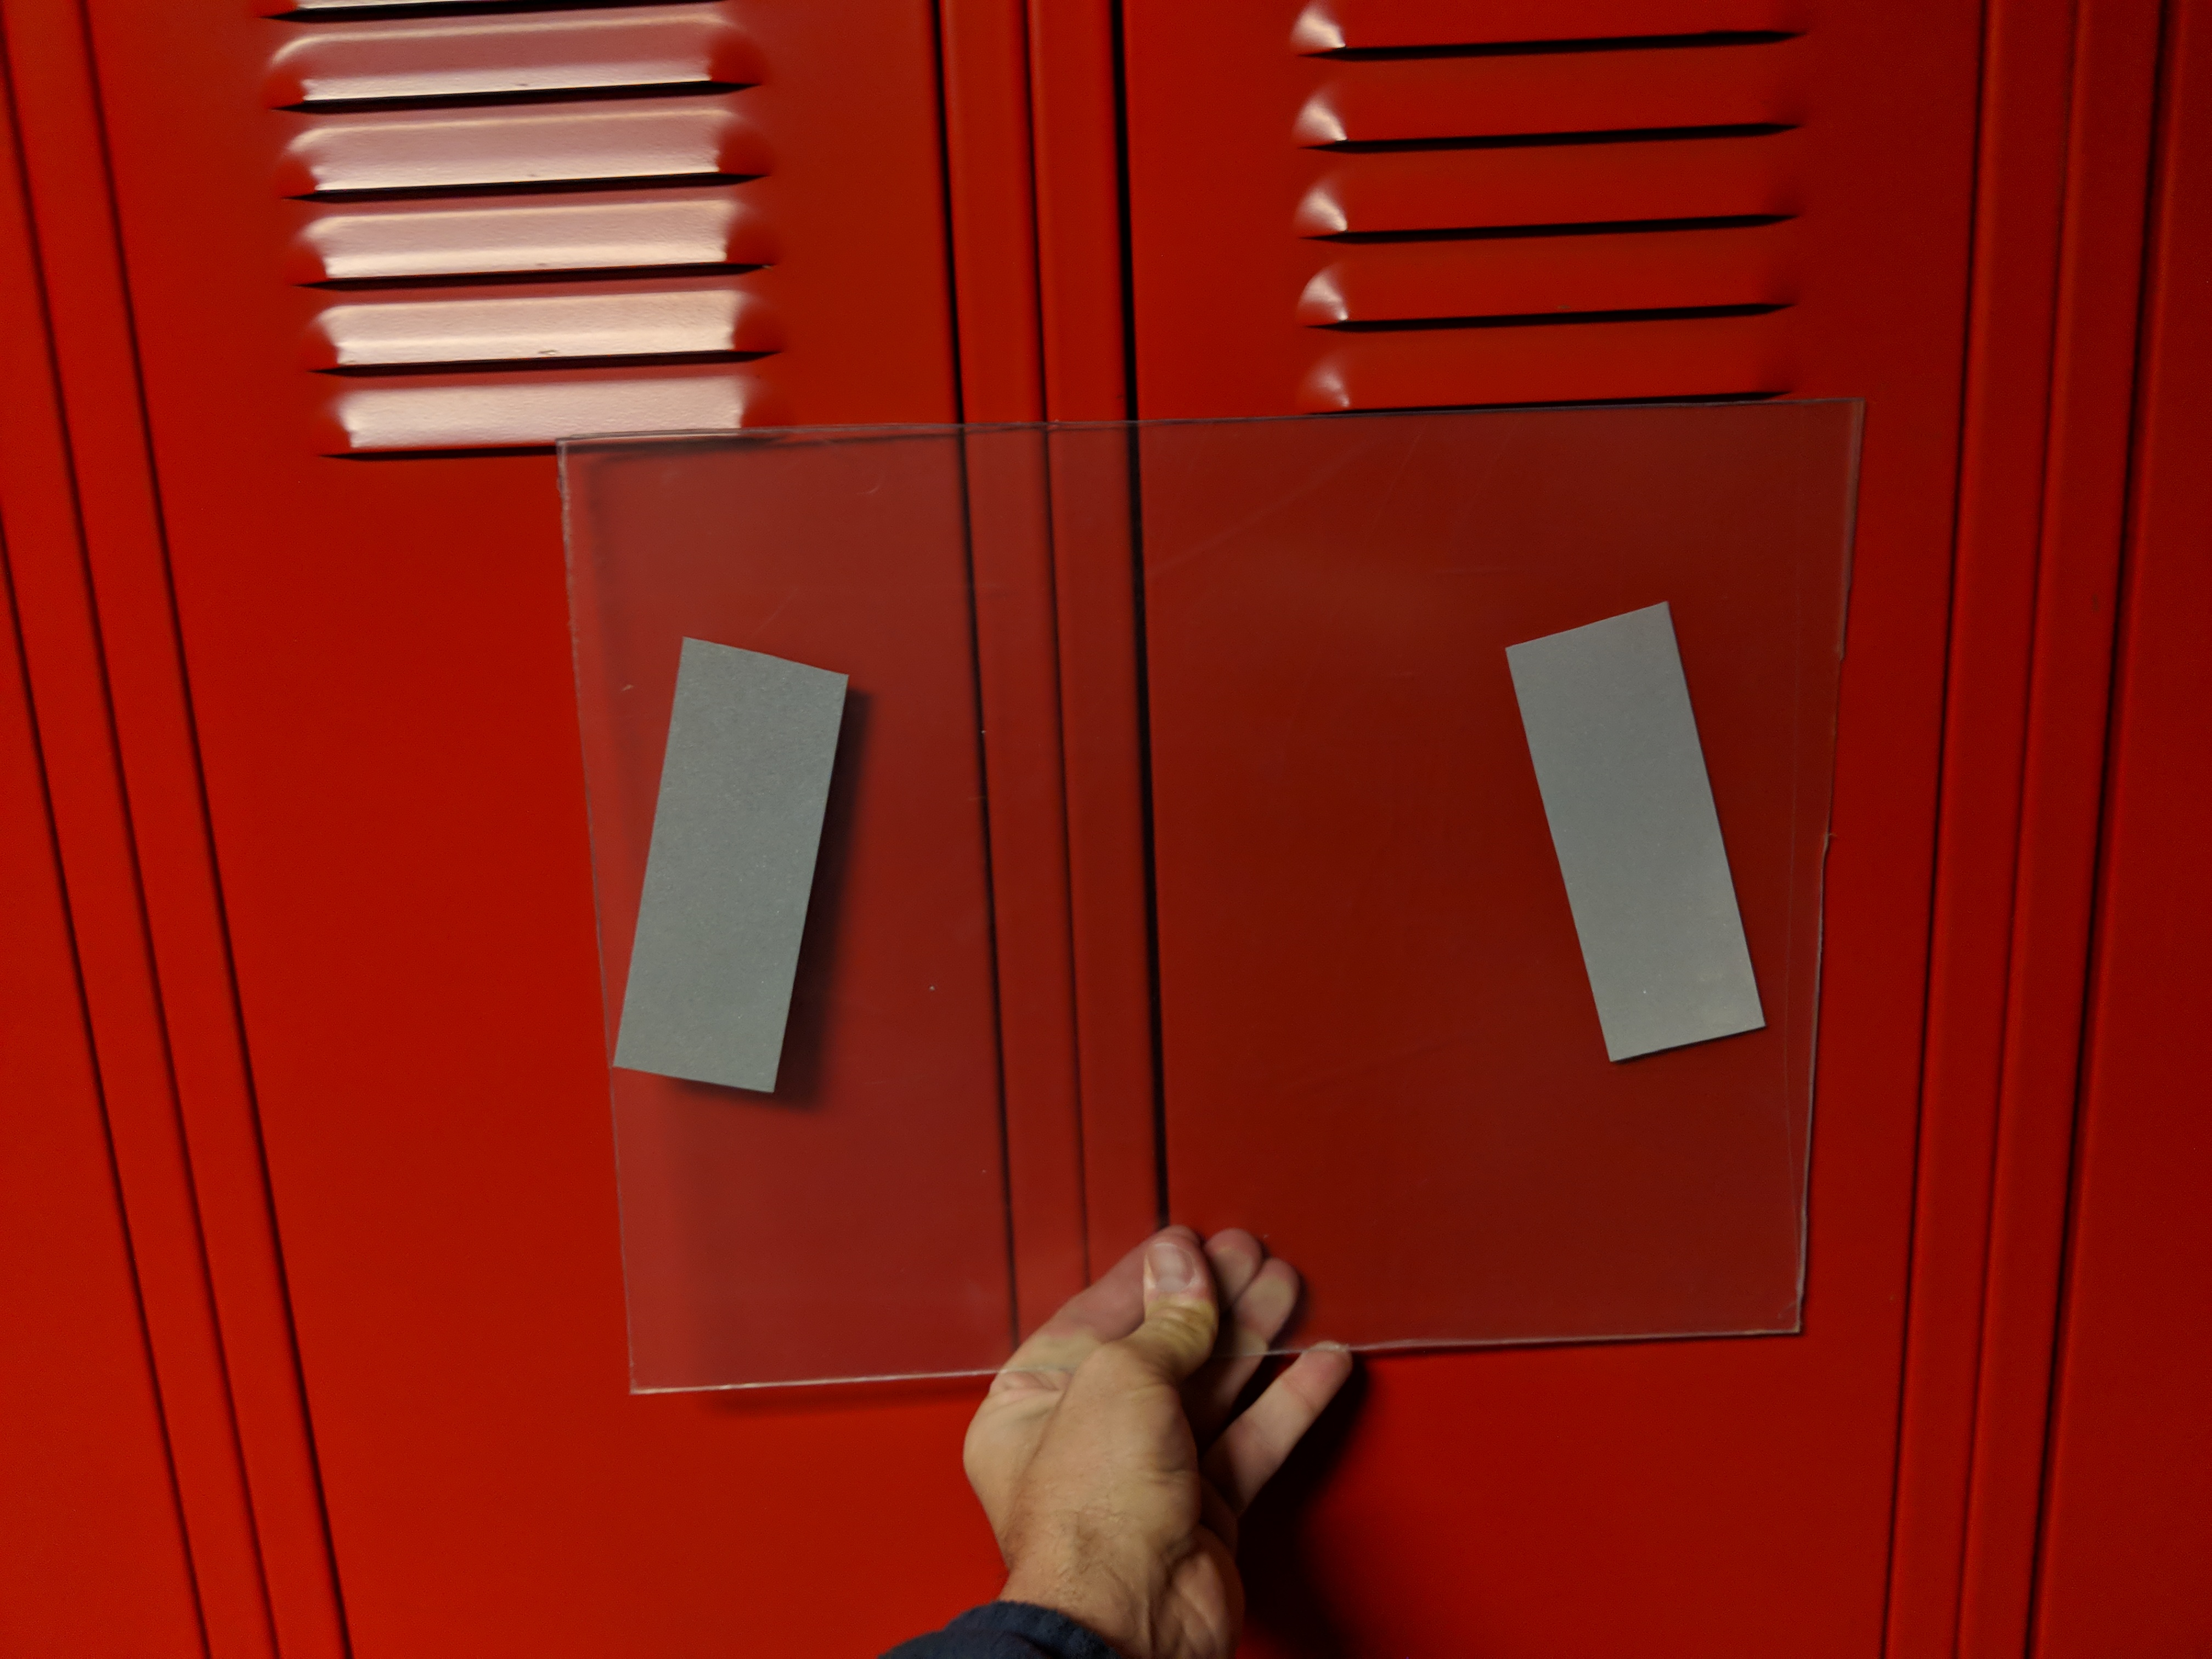vision_target: (613, 591, 1778, 1105)
